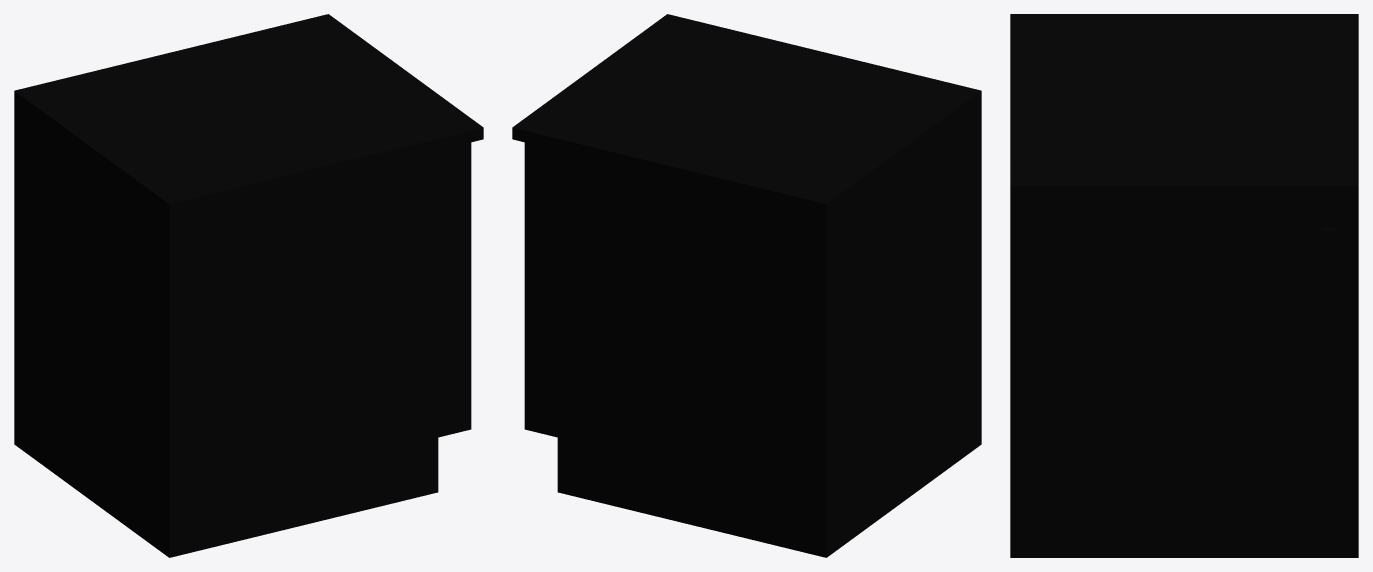
The model's file is KitchenCupboardA.fbx.
3 renders of one model, left to right at view 1: azimuth 30°, elevation 25°; view 2: azimuth 150°, elevation 25°; view 3: azimuth 270°, elevation 25°, orthographic. The views are drawn at different scales.
Visible parts, largest first — view 1: node_id5; view 2: node_id5; view 3: node_id5.
Part boxes in pixels (left/top/right/bottom): node_id5: left=14, top=14, right=483, bottom=557; node_id5: left=512, top=14, right=981, bottom=557; node_id5: left=1010, top=14, right=1358, bottom=557.
Size of the model in its own units: 0.4762 by 0.512 by 0.4072.
Materials: 1 (1 with a texture image).
